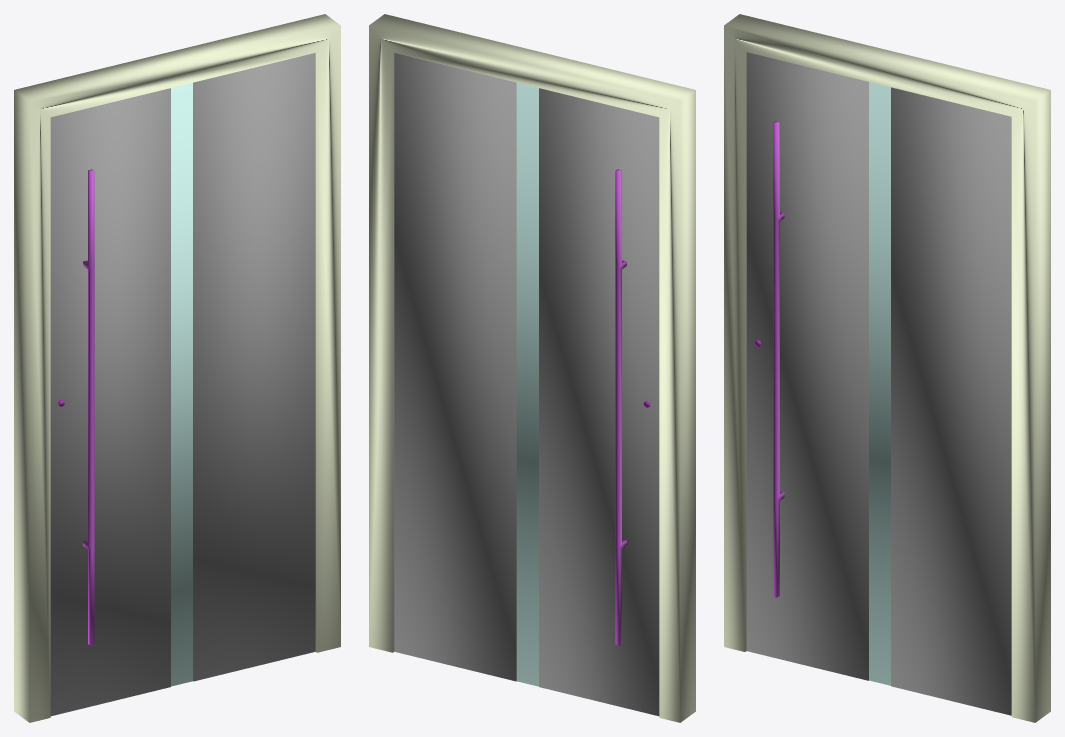
The model's file is objToFbx.fbx.
3 renders of one model, left to right at view 1: azimuth 30°, elevation 25°; view 2: azimuth 150°, elevation 25°; view 3: azimuth 330°, elevation 25°, orthographic.
Visible parts, largest first — view 1: Foaie_usa, Foaie_usa_2, Rama, sticla, Maner; view 2: Foaie_usa, Foaie_usa_2, Rama, sticla, Maner; view 3: Foaie_usa, Foaie_usa_2, Rama, sticla, Maner.
Boxes of the visible parts, bbox=[...] form: Foaie_usa: bbox=[193, 53, 315, 681]; Foaie_usa_2: bbox=[50, 88, 170, 716]; Rama: bbox=[14, 14, 340, 722]; sticla: bbox=[171, 82, 192, 686]; Maner: bbox=[83, 169, 94, 645]; Foaie_usa: bbox=[394, 53, 516, 681]; Foaie_usa_2: bbox=[539, 88, 659, 716]; Rama: bbox=[369, 14, 695, 722]; sticla: bbox=[516, 82, 538, 686]; Maner: bbox=[615, 169, 626, 645]; Foaie_usa: bbox=[891, 87, 1011, 715]; Foaie_usa_2: bbox=[746, 52, 868, 680]; Rama: bbox=[724, 14, 1050, 722]; sticla: bbox=[869, 82, 890, 685]; Maner: bbox=[773, 121, 784, 597].
Bounding box in the file's own units: 4331 × 8268 × 657.
